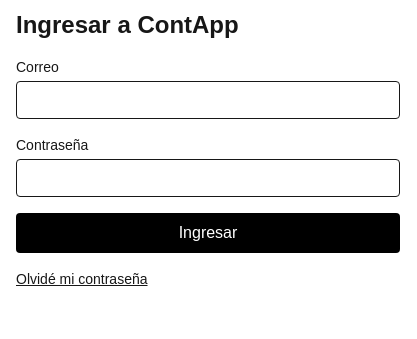
/login › 429 demasiados_intentos → otro mensaje, distinto del de credenciales inválidas
Type "ana@ejemplo.test" into the field labelled "Correo" at (208, 100), box [16,81,400,119]
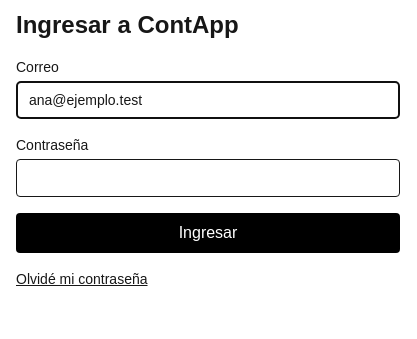
Type "canario-contrasena-de-prueba-1" into the password field labelled "Contraseña" at (208, 178), box [16,159,400,197]
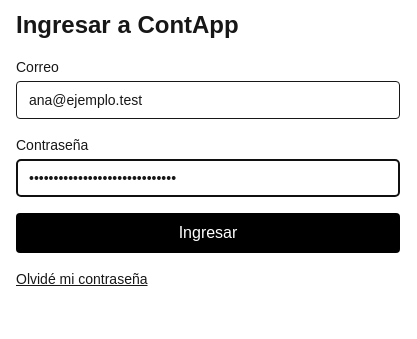
Click the button "Ingresar" at (208, 233), box [16,213,400,253]
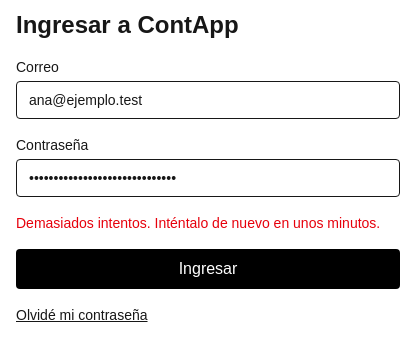
Expected: the text "Demasiados intentos. Inténtalo de nuevo en unos minutos." is shown, [16,213,400,233]
